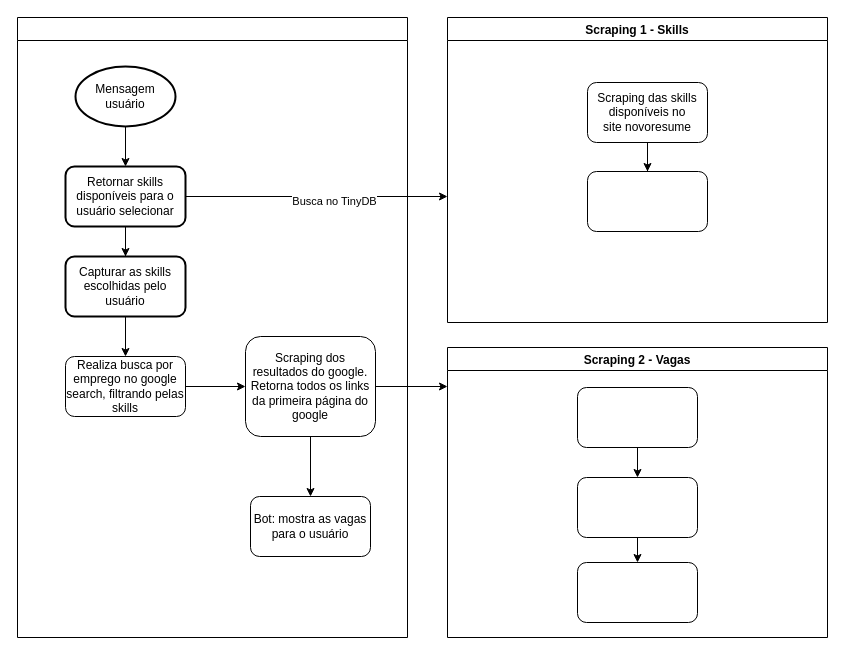
Image size: 845x655. Some labels were removed from this diagram. Each missing label, with the centre of its shape:
"Abrir o site de busca do google" belongs at (637,417).
"Armazenar em memória os links da primeira página de resposta do google" belongs at (637,592).
"Fluxo realtime" belongs at (212,327).
"Persistir skills no tinyDB" belongs at (647,201).
"Pesquisar vagas utilizando os filtros necessários" belongs at (637,507).
